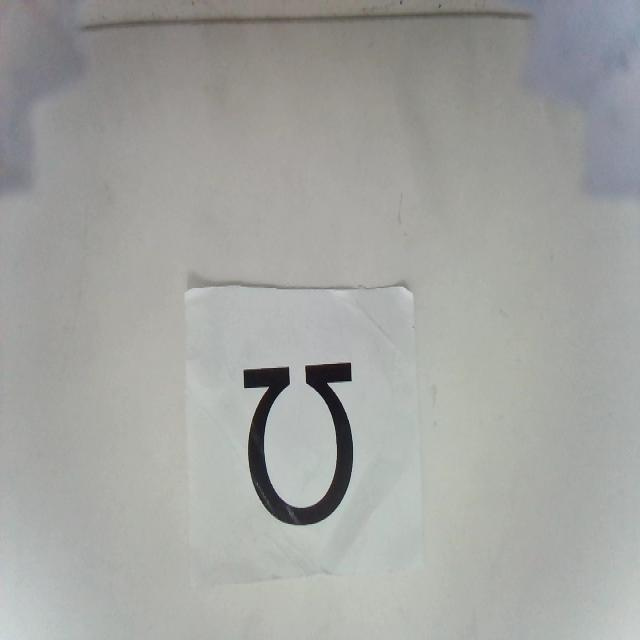OM: (241, 359, 357, 525)
